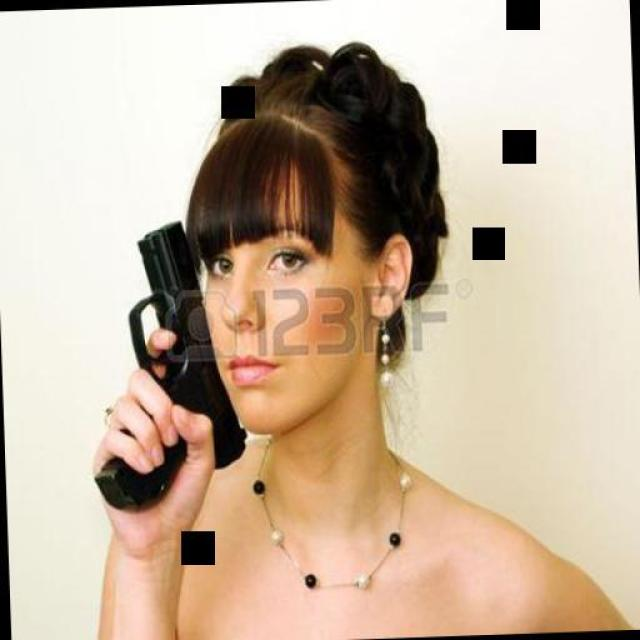gun: (82, 197, 246, 492)
